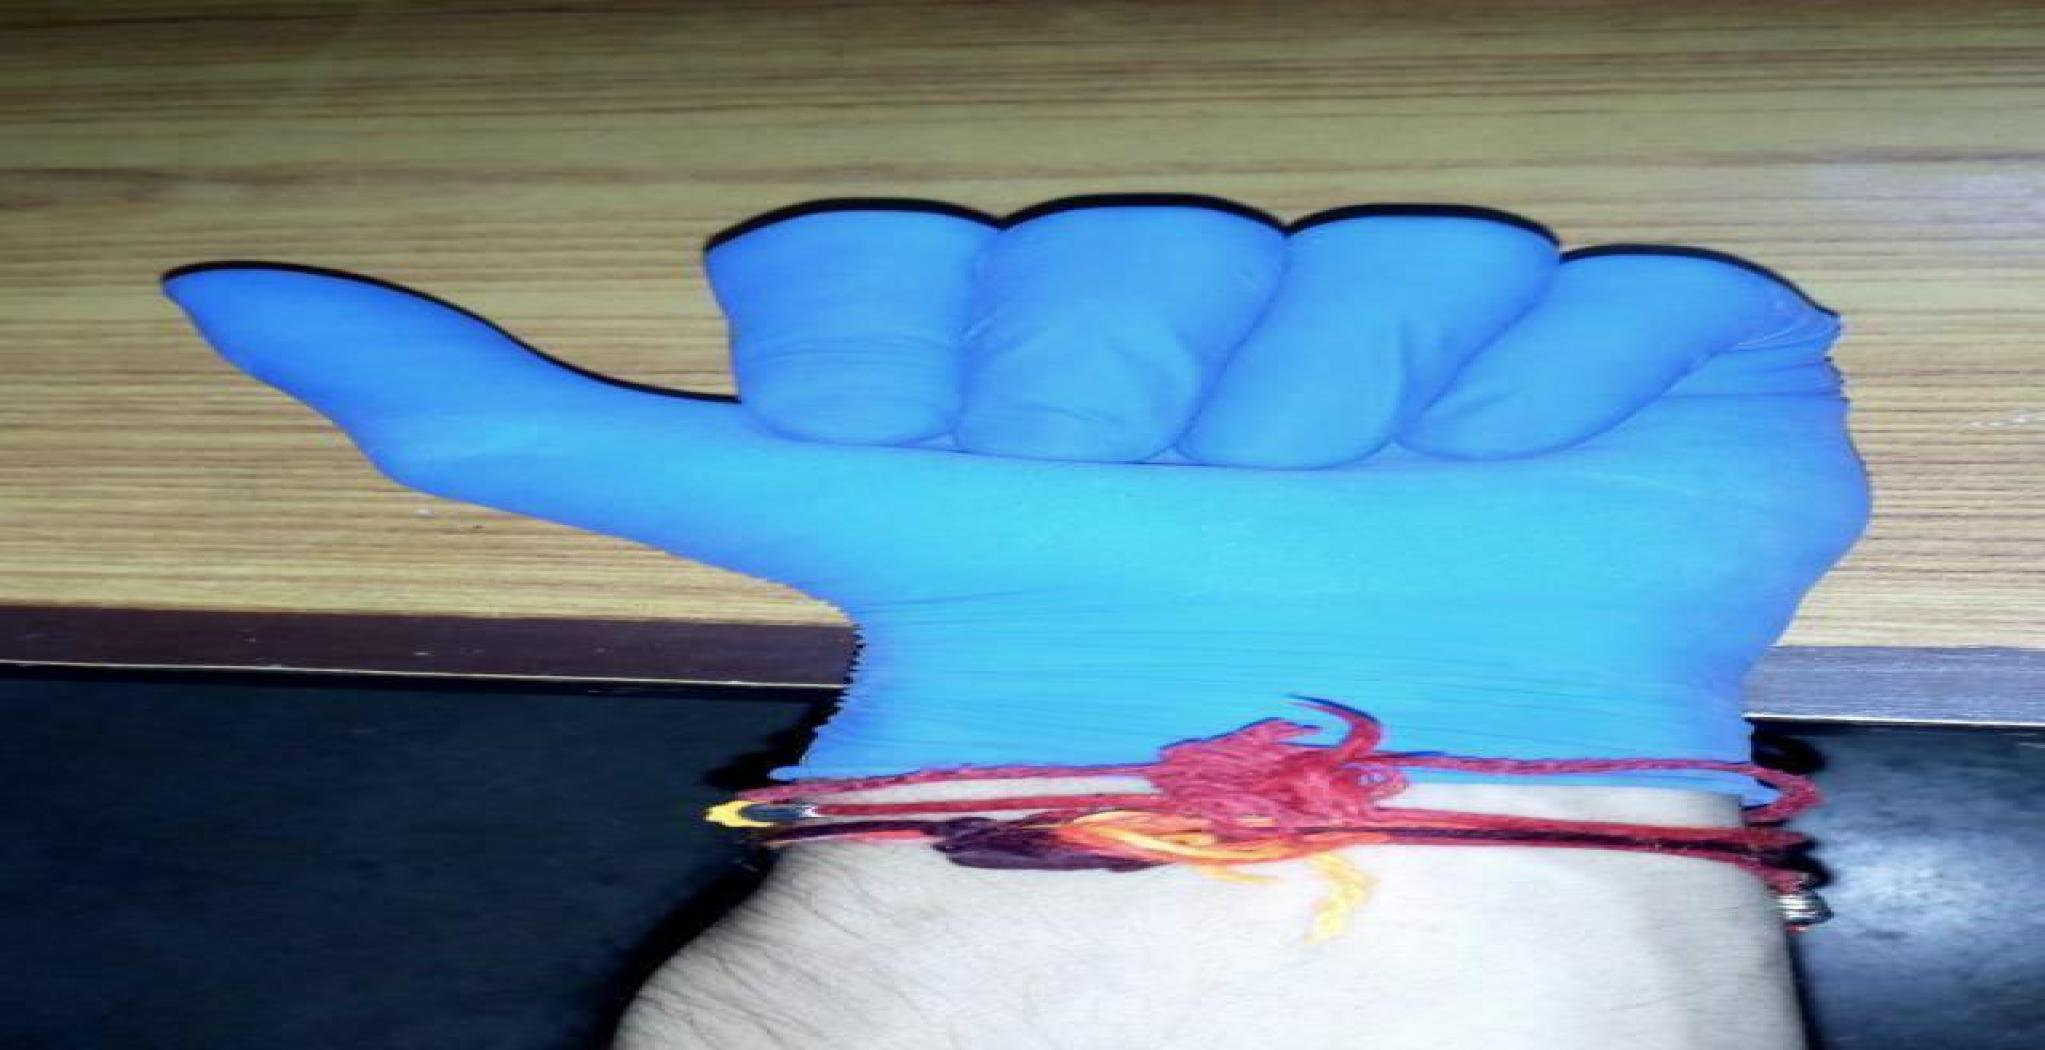gloved: (170, 201, 1815, 808)
